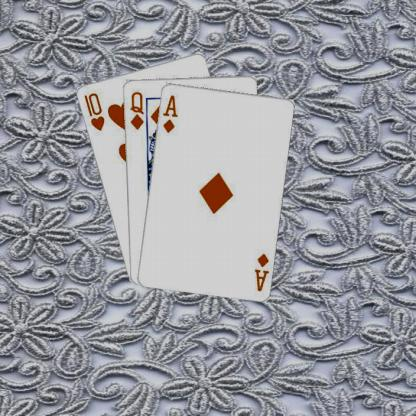10H: (81, 90, 106, 132)
AD: (160, 92, 179, 134), (251, 250, 270, 292)
QD: (127, 89, 145, 130)
